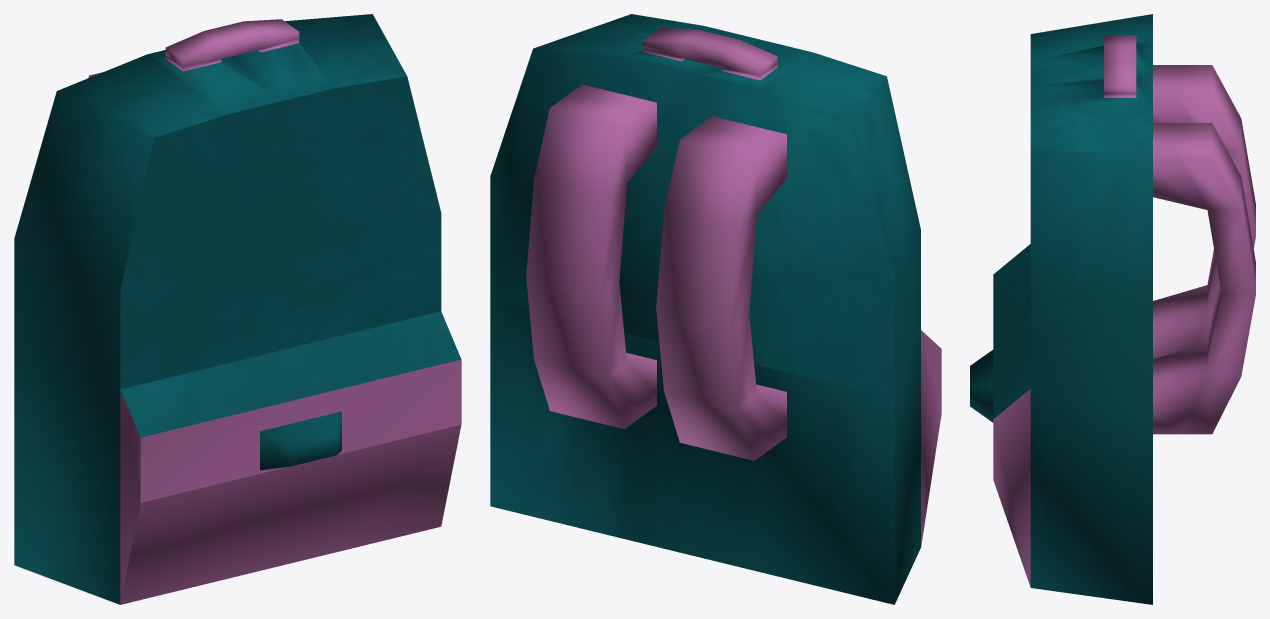
The model's file is Schoolbag_01.fbx.
3 views of the same model, side by side, from view 1: azimuth 30°, elevation 25°; view 2: azimuth 150°, elevation 25°; view 3: azimuth 270°, elevation 25° (orthographic). The views are drawn at different scales.
Parts seen in each view (by area): view 1: Schoolbag_01; view 2: Schoolbag_01; view 3: Schoolbag_01.
Boxes of the visible parts, x1,y1,x2,y2 form: Schoolbag_01: (14, 14, 461, 604); Schoolbag_01: (490, 14, 941, 604); Schoolbag_01: (970, 14, 1255, 604).
Size of the model in its own units: 65.23 by 77.47 by 43.56.
